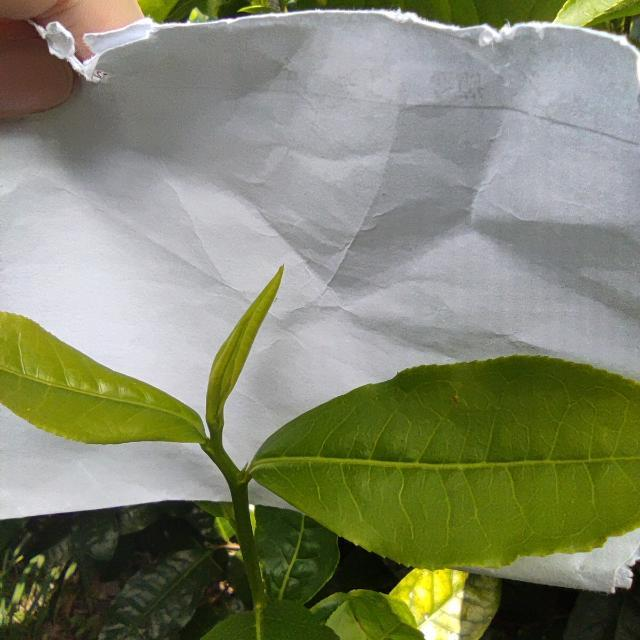Stem: (229, 486, 252, 533)
